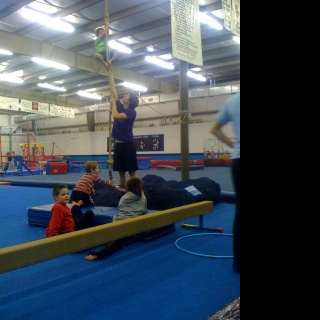without_mask: (57, 188, 72, 204), (121, 93, 131, 104), (94, 166, 100, 174)
